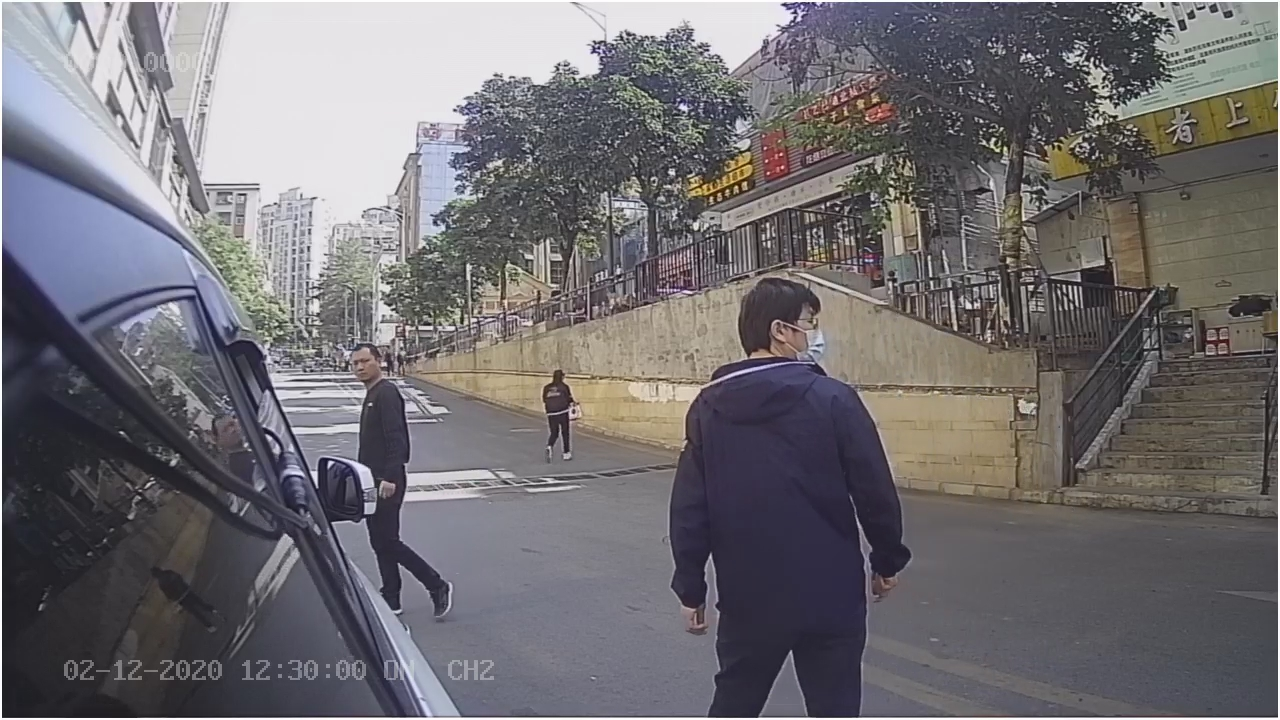person: (668, 269, 907, 636), (338, 336, 429, 454)
